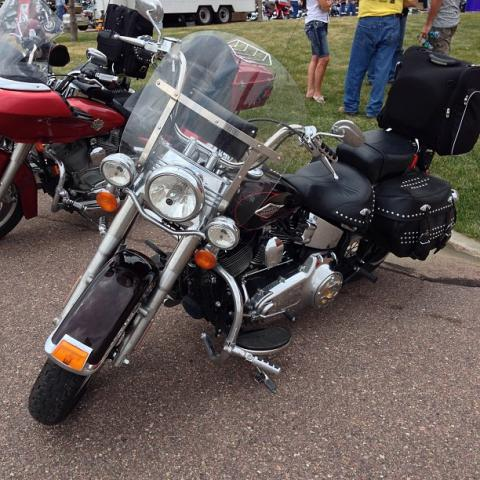motorcycle: (29, 35, 468, 433), (1, 43, 140, 237)
truck: (160, 0, 262, 26)
